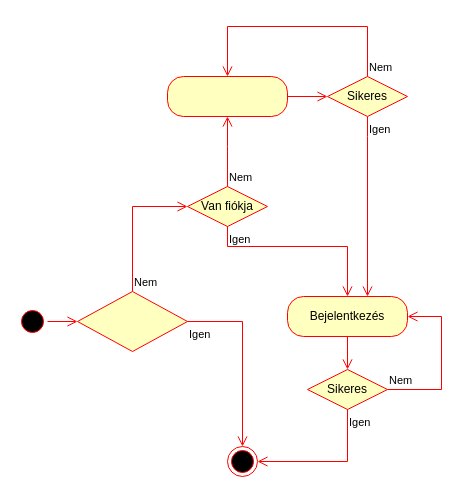
Image size: 469x494. Some labels were removed from this diagram. The shapes that lost their labels are listed below. From the top down, each one's centre as x and y in pixels, then its label:
At point 227,96: "Regisztráció".
At point 132,321: "Be van jelentkezve".
